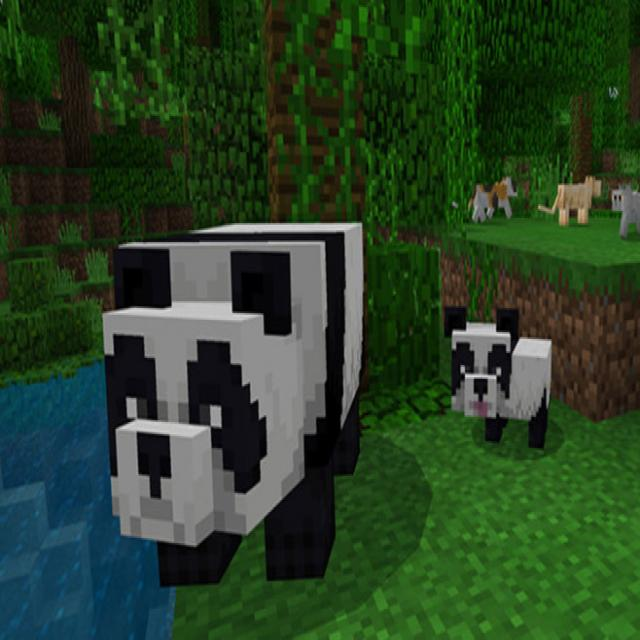Panda: (99, 216, 373, 592), (442, 305, 554, 451)
